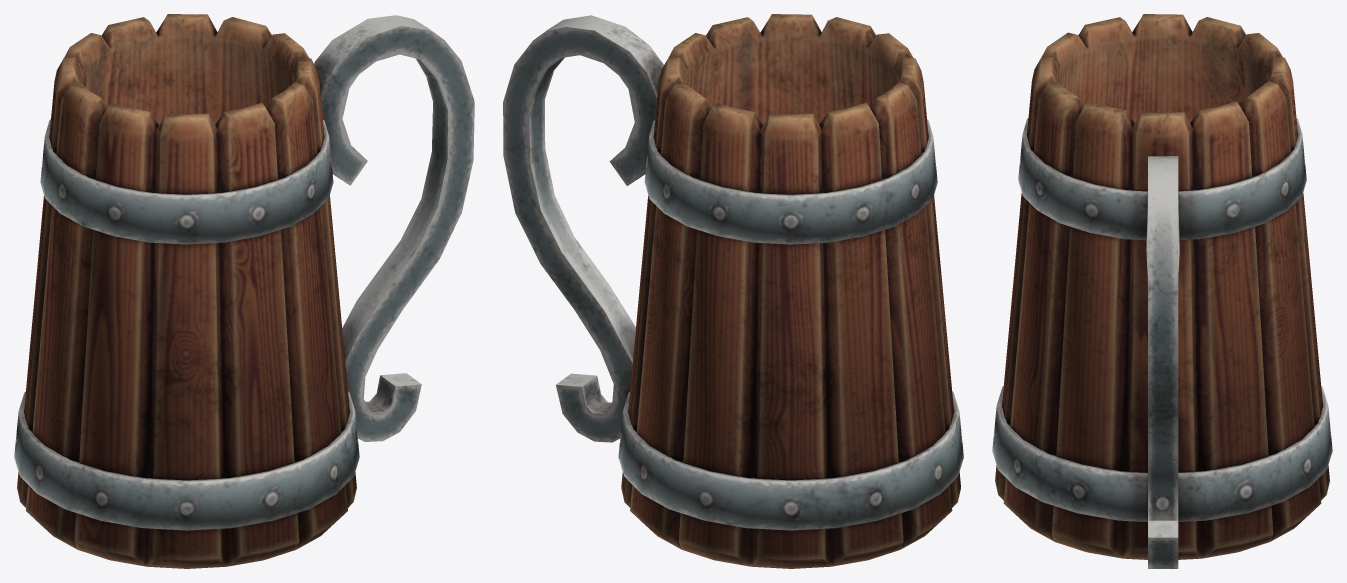
Rendered from Mug.fbx.
3 views of the same model, side by side, from view 1: azimuth 30°, elevation 25°; view 2: azimuth 150°, elevation 25°; view 3: azimuth 270°, elevation 25° (orthographic).
Parts seen in each view (by area): view 1: Mug_01; view 2: Mug_01; view 3: Mug_01.
Part boxes in pixels (<box>): Mug_01: <box>14,14,474,568</box>; Mug_01: <box>503,14,963,568</box>; Mug_01: <box>992,14,1332,568</box>.
Bounding box in the file's own units: 28.95 × 28.14 × 20.14.
Materials: 1 (1 with a texture image).
